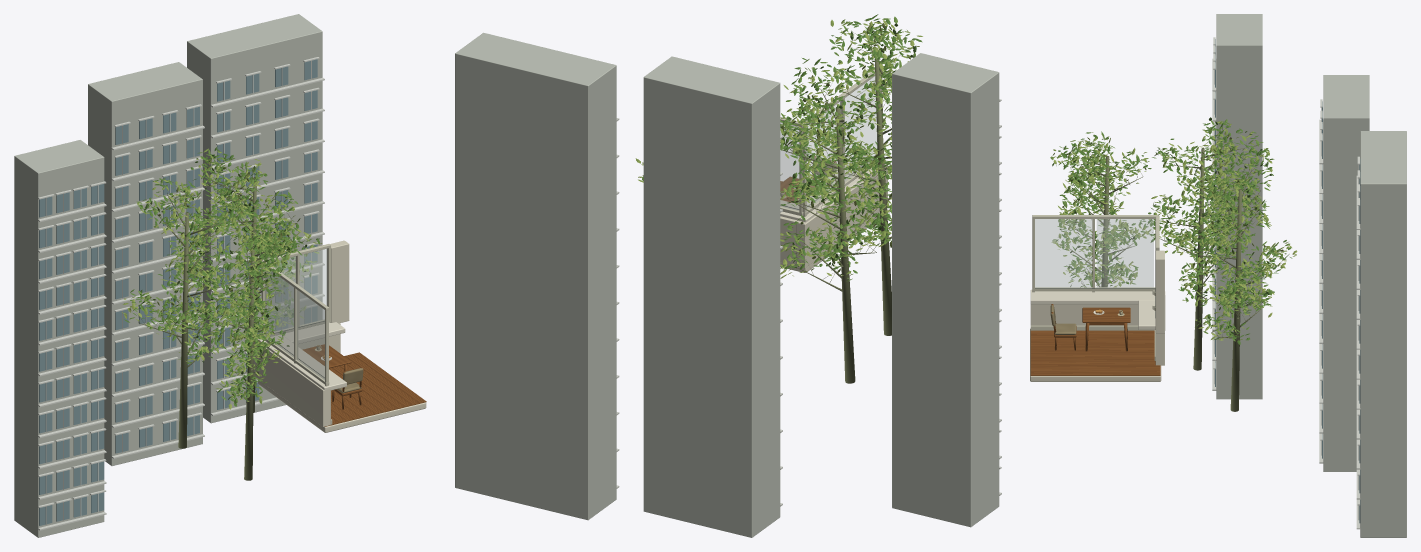
Rendered from breakfast-corner.glb.
3 renders of one model, left to right at view 1: azimuth 30°, elevation 25°; view 2: azimuth 150°, elevation 25°; view 3: azimuth 270°, elevation 25°, orthographic. The views are drawn at different scales.
Parts seen in each view (by area): view 1: Residential apartment block, Residential apartment block.001, Residential apartment block.002, Tree leaves • group 1, Tree leaves • group 2, Tree leaves • group 3, Tree leaves • group 4, Tree leaves • group 0, Left wall beneath window, GLASS left pane, GLASS return pane.001, GLASS left pane.001 (+10 smaller); view 2: Residential apartment block.001, Residential apartment block, Residential apartment block.002, Tree leaves • group 0, Tree leaves • group 4, Tree leaves • group 2, Tree leaves • group 3, Tree leaves • group 1, Left wall beneath window, Tree trunk.001, Tree trunk, GLASS left pane (+3 smaller); view 3: Residential apartment block.001, Residential apartment block, Residential apartment block.002, Tree leaves • group 2, Tree leaves • group 1, Tree leaves • group 4, Tree leaves • group 0, Tree leaves • group 3, GLASS left pane, GLASS left pane.001, L sill • long side, Left wall beneath window (+21 smaller).
Part boxes in pixels (box(x1,y1,x2,y2)): Residential apartment block: box(88, 62, 202, 465); Residential apartment block.001: box(187, 14, 322, 423); Residential apartment block.002: box(14, 140, 104, 537); Tree leaves • group 1: box(129, 149, 318, 403); Tree leaves • group 2: box(121, 148, 322, 403); Tree leaves • group 3: box(130, 154, 319, 406); Tree leaves • group 4: box(124, 157, 317, 409); Tree leaves • group 0: box(124, 147, 319, 401); Left wall beneath window: box(253, 346, 330, 426); GLASS left pane: box(297, 290, 324, 379); GLASS return pane.001: box(300, 249, 326, 325); GLASS left pane.001: box(265, 271, 293, 357); Residential apartment block.001: box(455, 32, 616, 520); Residential apartment block: box(643, 56, 780, 537); Residential apartment block.002: box(892, 53, 999, 527); Tree leaves • group 0: box(780, 14, 922, 274); Tree leaves • group 4: box(638, 19, 919, 278); Tree leaves • group 2: box(635, 19, 922, 275); Tree leaves • group 3: box(642, 19, 915, 273); Tree leaves • group 1: box(780, 16, 915, 281); Left wall beneath window: box(796, 164, 887, 267); Tree trunk.001: box(836, 106, 855, 383); Tree trunk: box(874, 59, 891, 335); GLASS left pane: box(845, 76, 877, 181); Residential apartment block.001: box(1360, 131, 1406, 537); Residential apartment block: box(1323, 75, 1369, 471); Residential apartment block.002: box(1216, 14, 1262, 399); Tree leaves • group 2: box(1051, 121, 1296, 341); Tree leaves • group 1: box(1050, 119, 1289, 341); Tree leaves • group 4: box(1053, 121, 1297, 340); Tree leaves • group 0: box(1052, 117, 1289, 344); Tree leaves • group 3: box(1056, 121, 1292, 339); GLASS left pane: box(1035, 219, 1091, 287); GLASS left pane.001: box(1097, 219, 1153, 287); L sill • long side: box(1030, 289, 1155, 304); Left wall beneath window: box(1030, 291, 1165, 330).
Bounding box in the file's own units: 8.65 × 8.4 × 8.1.
22 materials, 3 textured.
